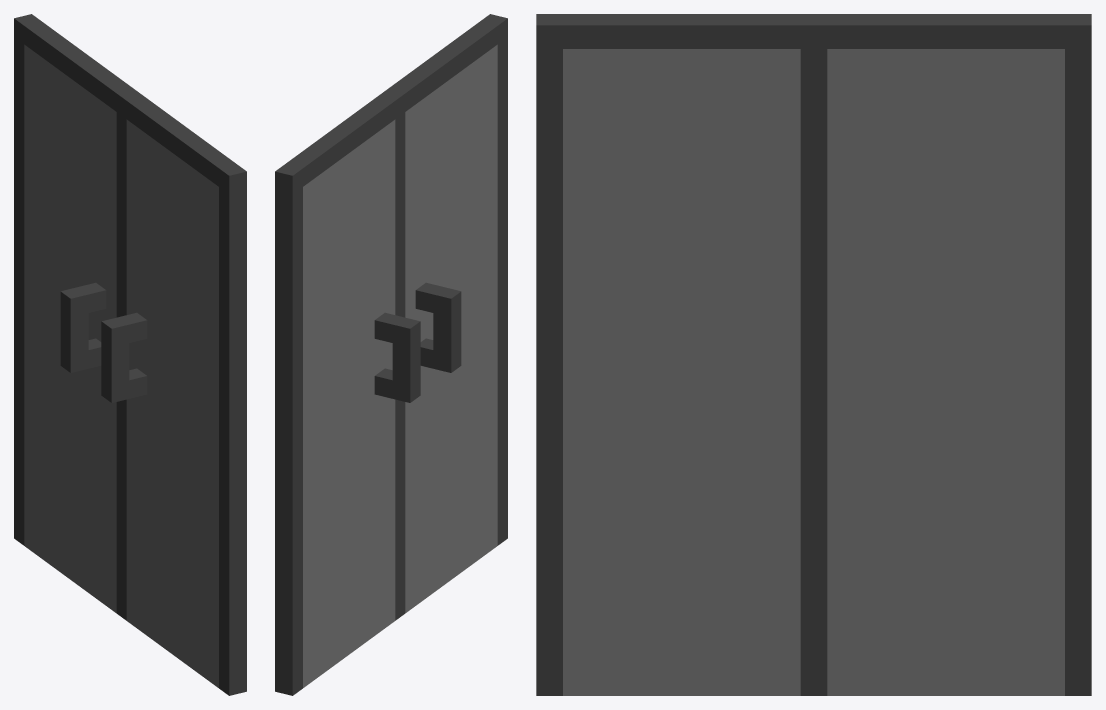
File: Door_for_wall_Ver2.obj
3 renders of one model, left to right at view 1: azimuth 30°, elevation 25°; view 2: azimuth 150°, elevation 25°; view 3: azimuth 270°, elevation 25°, orthographic. The views are drawn at different scales.
Size of the model in its own units: 0.3 by 2.8 by 2.1.
Materials: 1 (1 with a texture image).
